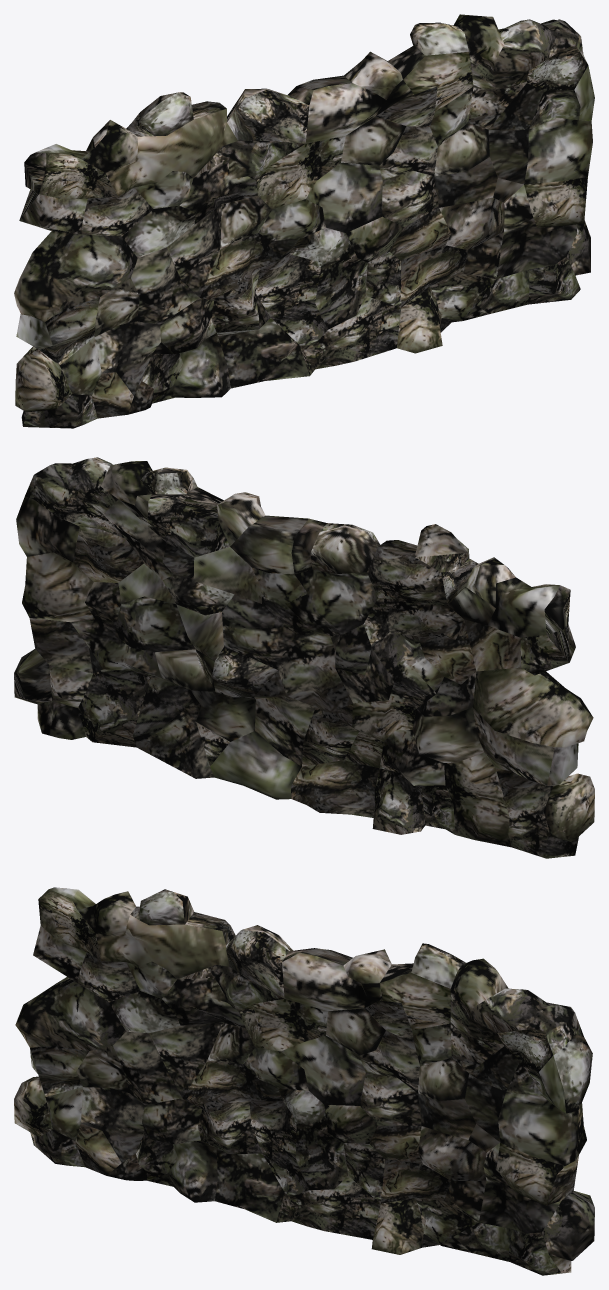
Rendered from STR_WallStoneA.FBX.
3 renders of one model, top to bottom at view 1: azimuth 30°, elevation 25°; view 2: azimuth 150°, elevation 25°; view 3: azimuth 330°, elevation 25°, orthographic. The views are drawn at different scales.
Visible parts, largest first — view 1: STR_WallStoneA; view 2: STR_WallStoneA; view 3: STR_WallStoneA.
Part boxes in pixels (left/top/right/bottom): STR_WallStoneA: left=14, top=14, right=594, bottom=428; STR_WallStoneA: left=14, top=457, right=594, bottom=858; STR_WallStoneA: left=14, top=887, right=594, bottom=1275.
Bounding box in the file's own units: 929 × 471 × 125.
1 material, 1 textured.
